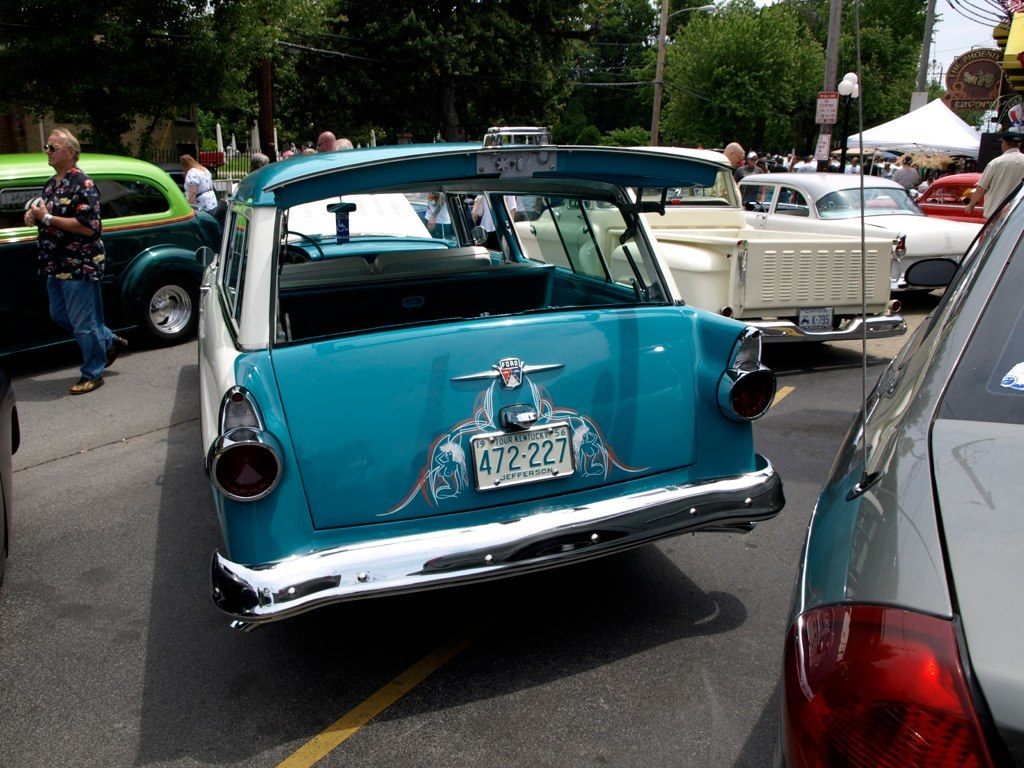Car: (174, 130, 764, 659), (778, 182, 1022, 767), (0, 156, 213, 343), (737, 170, 984, 292), (853, 168, 984, 224)
